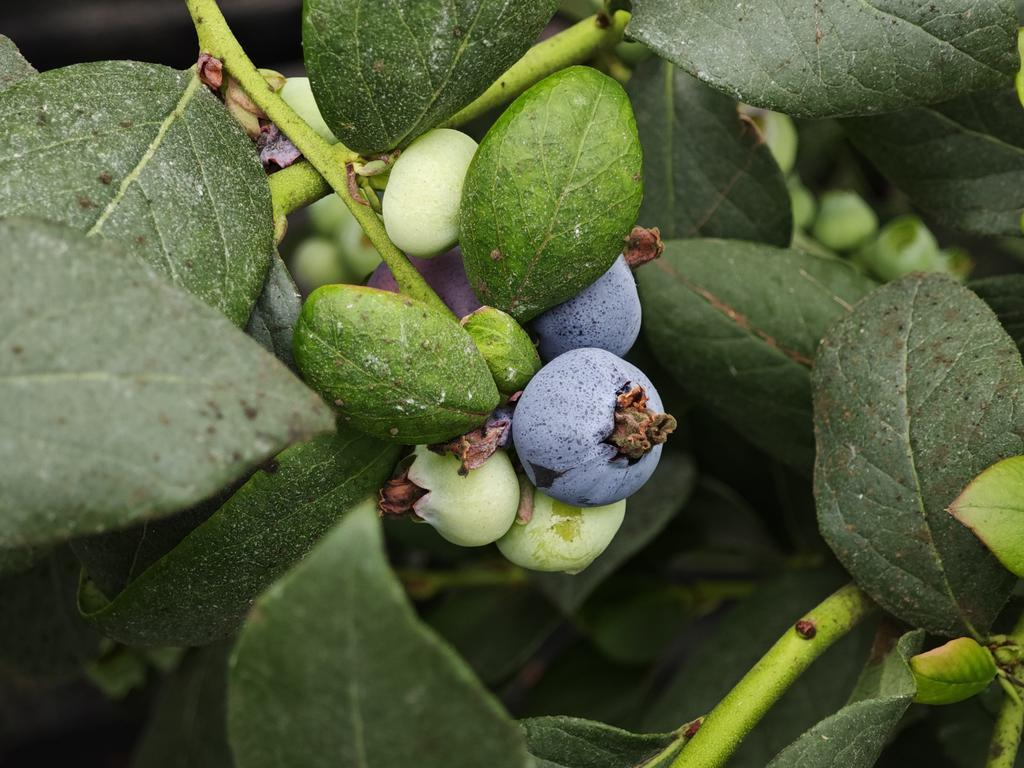RipeBlueBerry: (509, 347, 670, 506)
